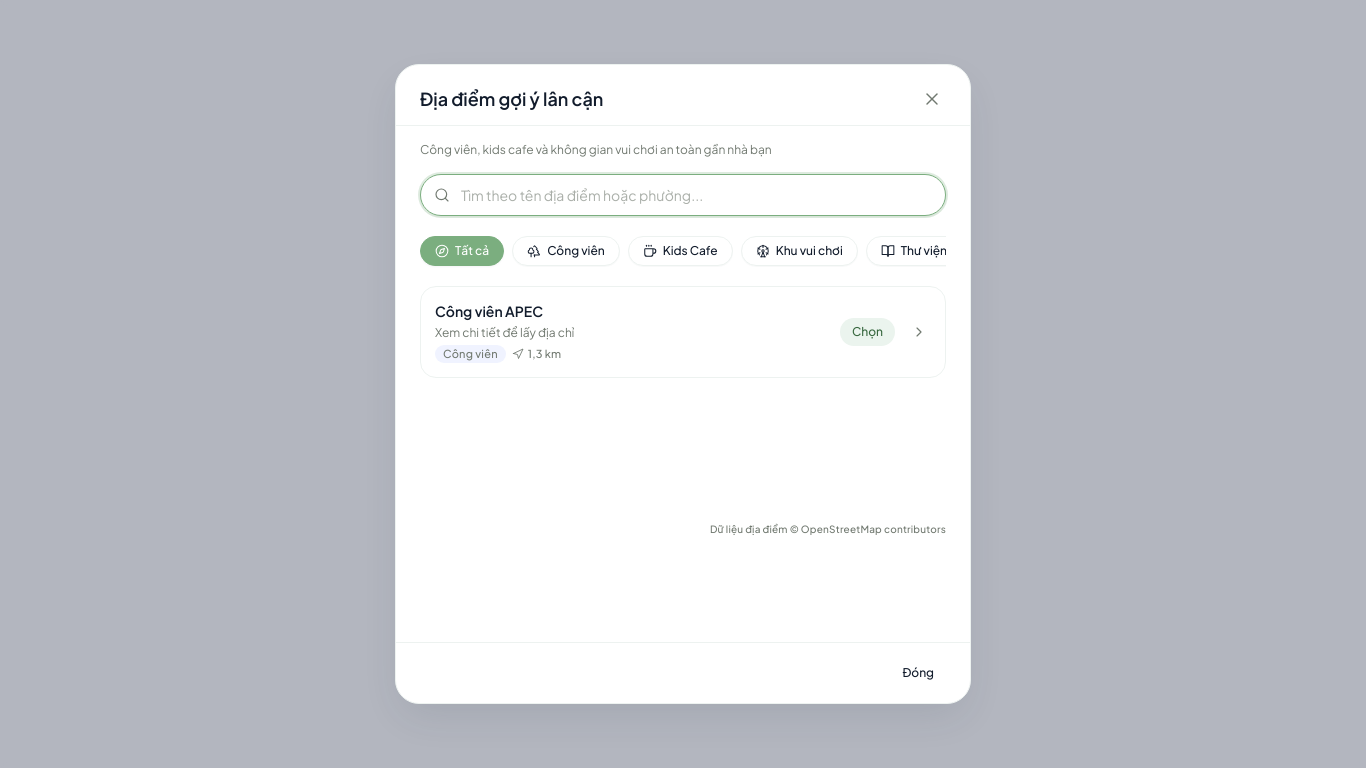
Test case: PlaceSearchModal › opens the place details with the resolved address
Note: The list appears after the debounced search: allow for a busy test runner
What coordinates should you click on to do the following:
click the button named "xem chi tiết công viên apec"
I would click on:
 (919, 332)
Its box is [907,320,931,344].
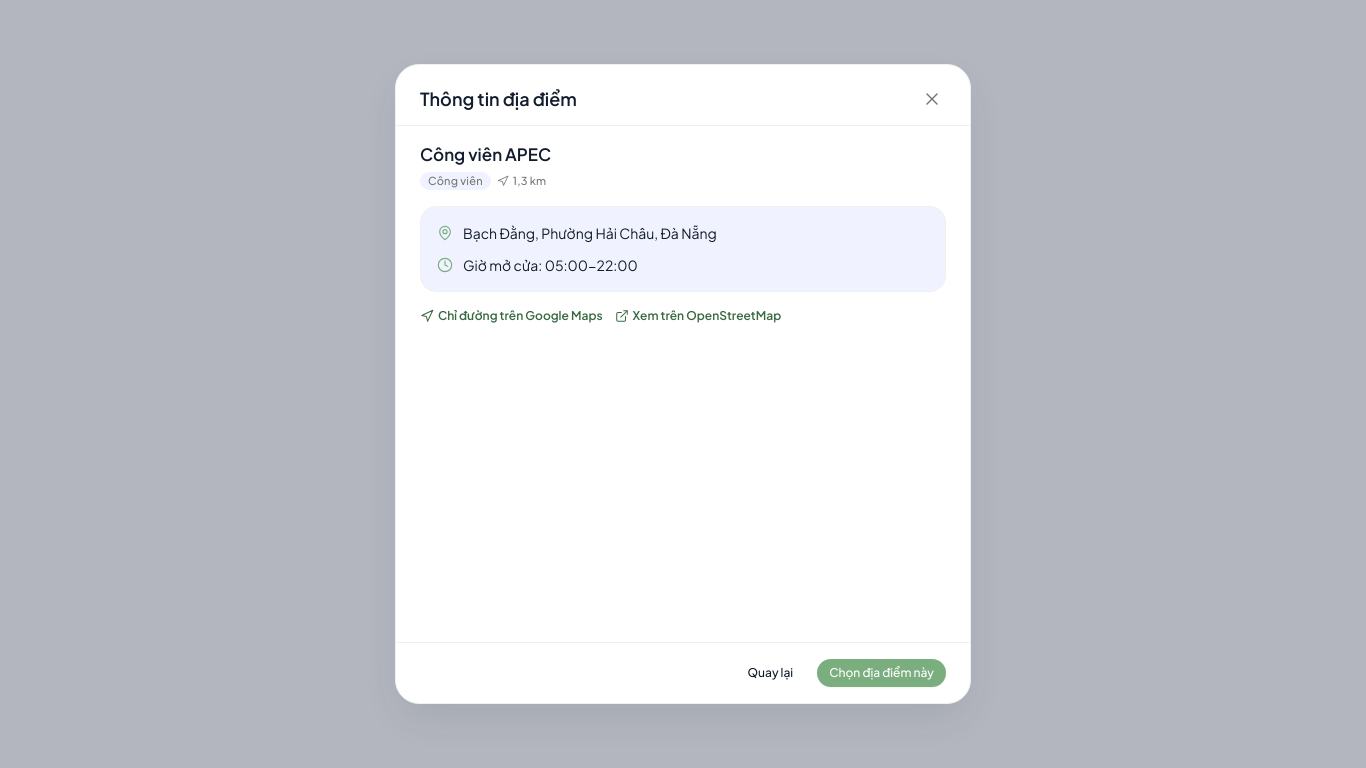
Expected: the text "Bạch Đằng, Phường Hải Châu, Đà Nẵng" is shown, [463,223,717,243]
Expected: the text "Giờ mở cửa: 05:00-22:00" is shown, [463,255,638,275]
